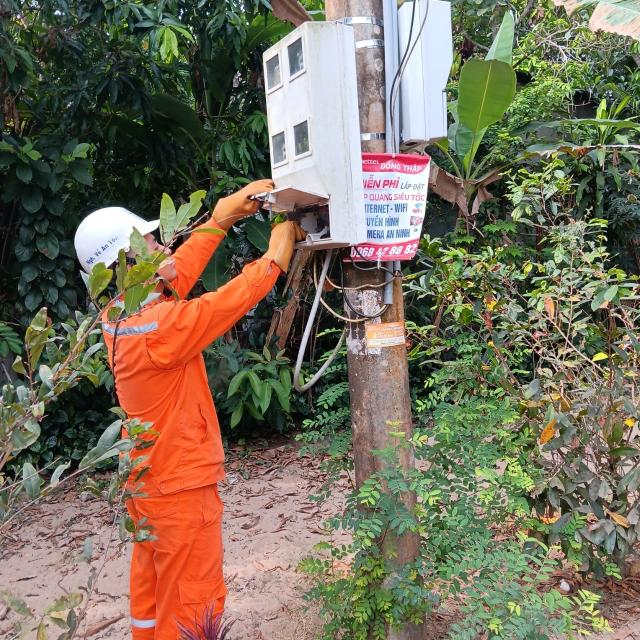gloves: (247, 211, 315, 280), (208, 179, 290, 224)
helmet: (62, 205, 176, 277)
